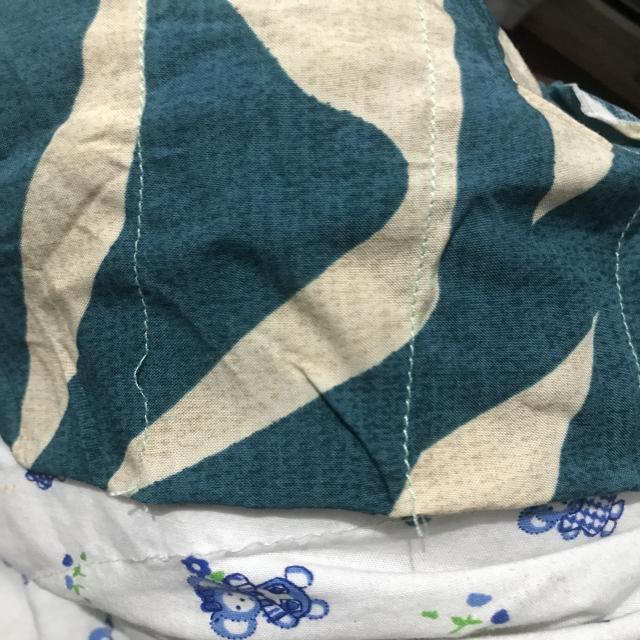good: (131, 180, 154, 245)
skip: (115, 346, 167, 414)
